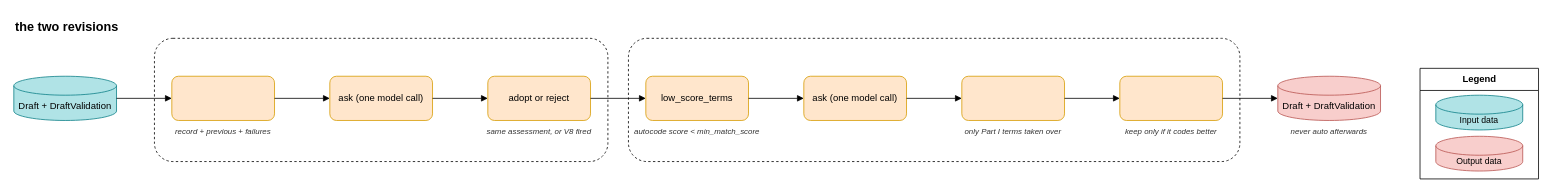
The diagram is 1552 pixels wide and 193 high, and some of its shapes have lost their labels. The box of each missing label's shape, as (x1, y1, x2, y2) in pixels:
per-term score guard: (1119, 75, 1223, 120)
revise_draft(): (154, 38, 608, 162)
revise_message: (171, 75, 275, 120)
revise_terms(): (628, 38, 1240, 162)
scoped_to_terms: (961, 75, 1065, 120)
